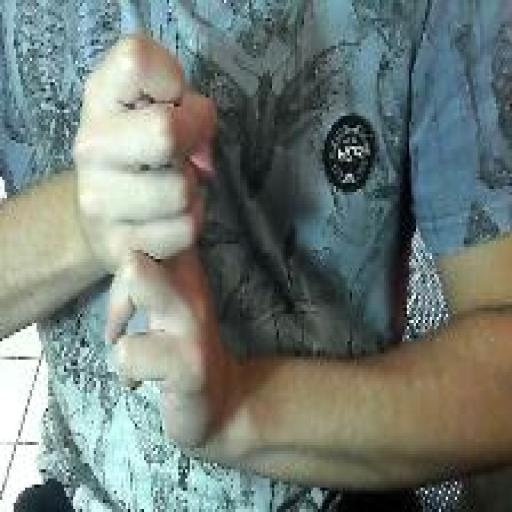Ne -rat-: (68, 29, 228, 456)
